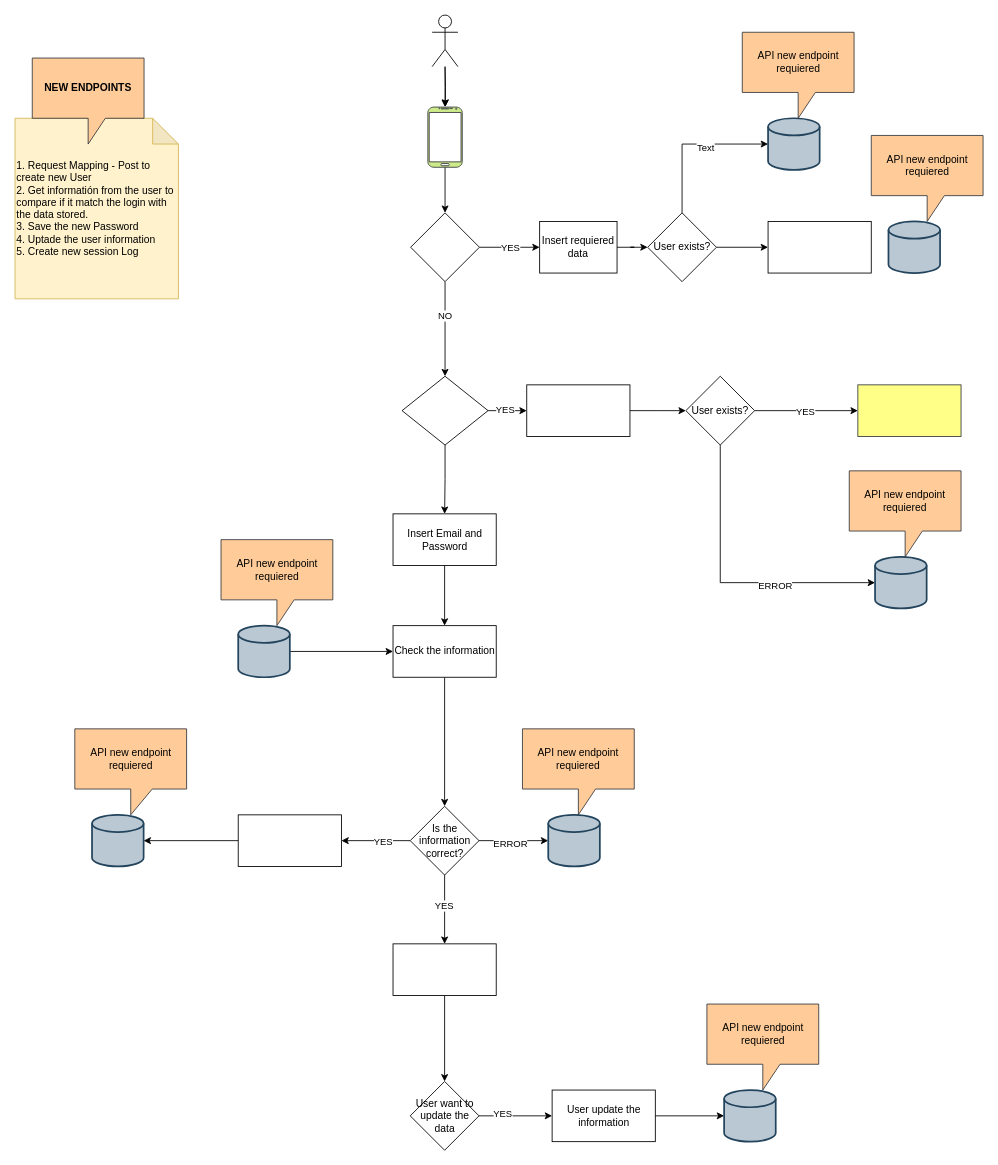
Some shapes in this 998 by 1165 pixel diagram are drawn without their labels. The centre of each missing label's shape, as x and y in pixels:
"Create a new session Log" belongs at point (289, 840).
"Navigate on the app" belongs at point (444, 969).
"Recovery Password Flow" belongs at point (909, 410).
"Save the new user" belongs at point (819, 247).
"User" belongs at point (444, 40).
"User forgot the password?" belongs at point (444, 410).
"Usert insert email" belongs at point (578, 410).
"Wants to register?" belongs at point (444, 247).
